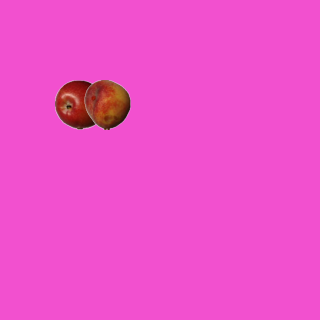Apple Braeburn: (54, 79, 104, 129)
Peach: (82, 79, 132, 129)
